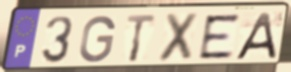3: (40, 15, 74, 66)
A: (233, 11, 278, 61)
E: (198, 12, 242, 61)
G: (77, 14, 118, 64)
T: (124, 13, 158, 64)
X: (155, 11, 201, 64)
